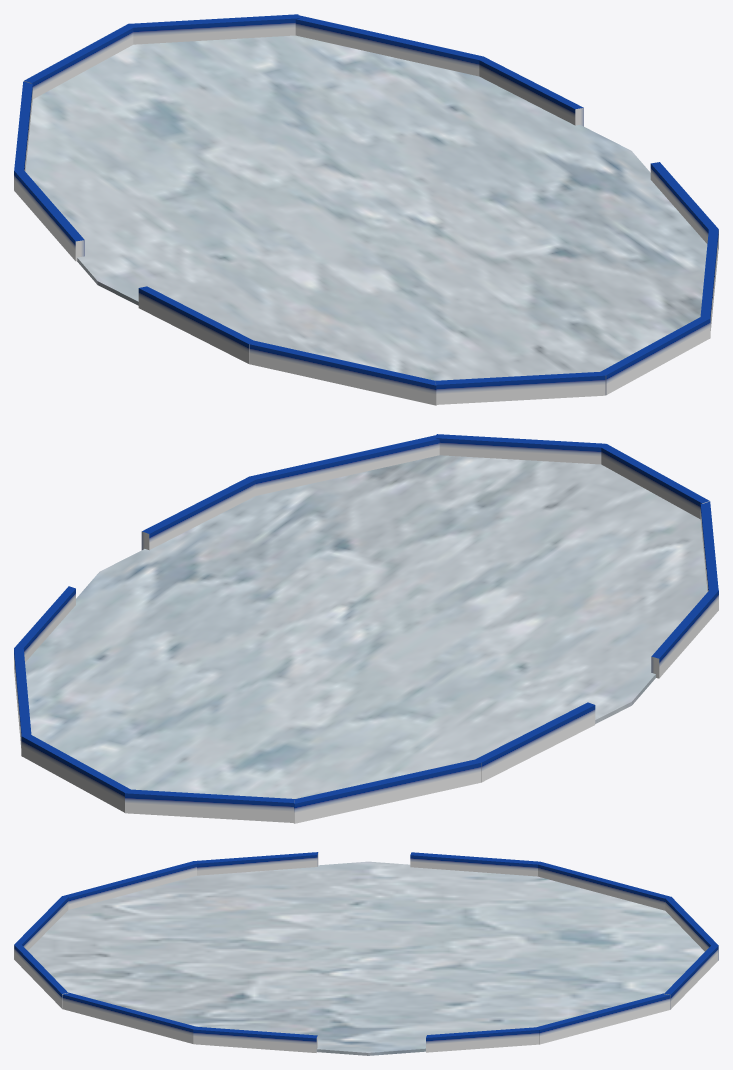
File: ice_rink2.fbx
3 views of the same model, one above another, from view 1: azimuth 30°, elevation 25°; view 2: azimuth 150°, elevation 25°; view 3: azimuth 270°, elevation 25° (orthographic). The views are drawn at different scales.
Visible parts, largest first — view 1: ice_rink; view 2: ice_rink; view 3: ice_rink.
Part boxes in pixels (x1,y1,x2,y2): ice_rink: (14, 14, 718, 405); ice_rink: (14, 434, 718, 823); ice_rink: (14, 852, 718, 1055).
Size of the model in its own units: 27.88 by 1.05 by 43.41.
Materials: 2 (2 with a texture image).
